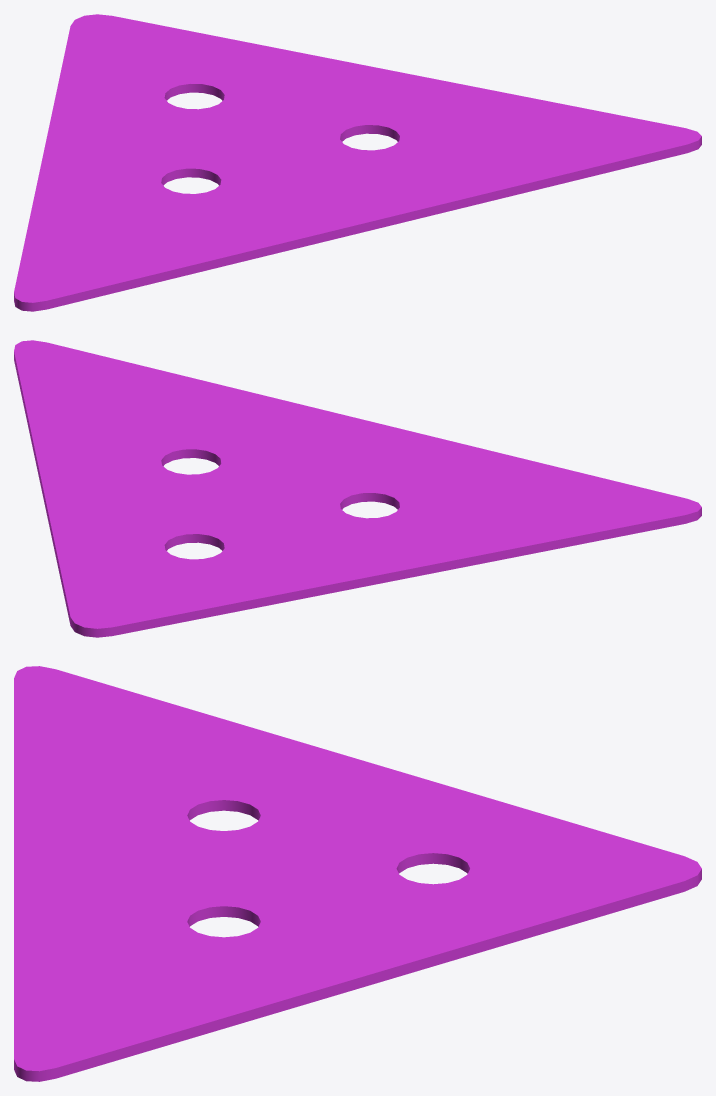
The model's file is triangle.fbx.
3 views of the same model, one above another, from view 1: azimuth 30°, elevation 25°; view 2: azimuth 150°, elevation 25°; view 3: azimuth 270°, elevation 25° (orthographic). The views are drawn at different scales.
Parts seen in each view (by area): view 1: triangle; view 2: triangle; view 3: triangle.
Part boxes in pixels (x1,y1,x2,y2): triangle: (14,14,701,311); triangle: (14,340,701,637); triangle: (14,666,701,1081).
Size of the model in its own units: 2.16 by 0.0266 by 1.55.
